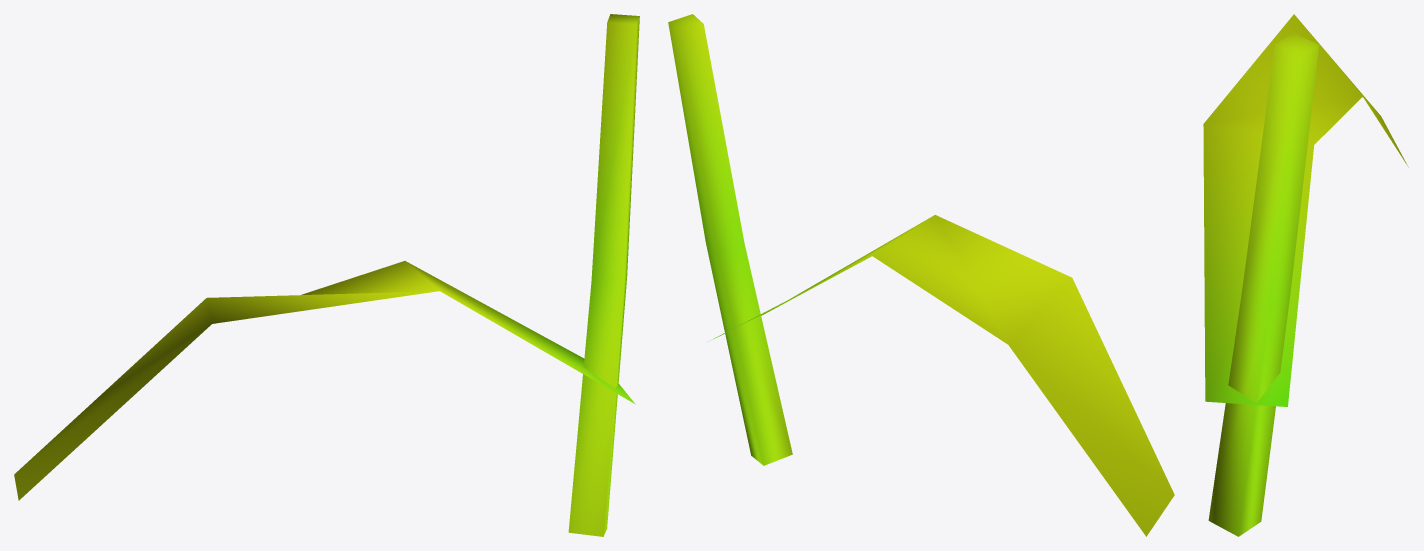
The model's file is SM_BarleyPlants_14.fbx.
The picture shows the model from 3 angles, left to right: view 1: azimuth 30°, elevation 25°; view 2: azimuth 150°, elevation 25°; view 3: azimuth 270°, elevation 25°; orthographic projection. The views are drawn at different scales.
Parts seen in each view (by area): view 1: SM_BarleyPlants_14; view 2: SM_BarleyPlants_14; view 3: SM_BarleyPlants_14.
Boxes of the visible parts, x1=… form: SM_BarleyPlants_14: x1=14, y1=14, x2=639, y2=536; SM_BarleyPlants_14: x1=668, y1=14, x2=1174, y2=536; SM_BarleyPlants_14: x1=1203, y1=14, x2=1408, y2=536.
Bounding box in the file's own units: 0.3129 × 0.2448 × 0.0883.
